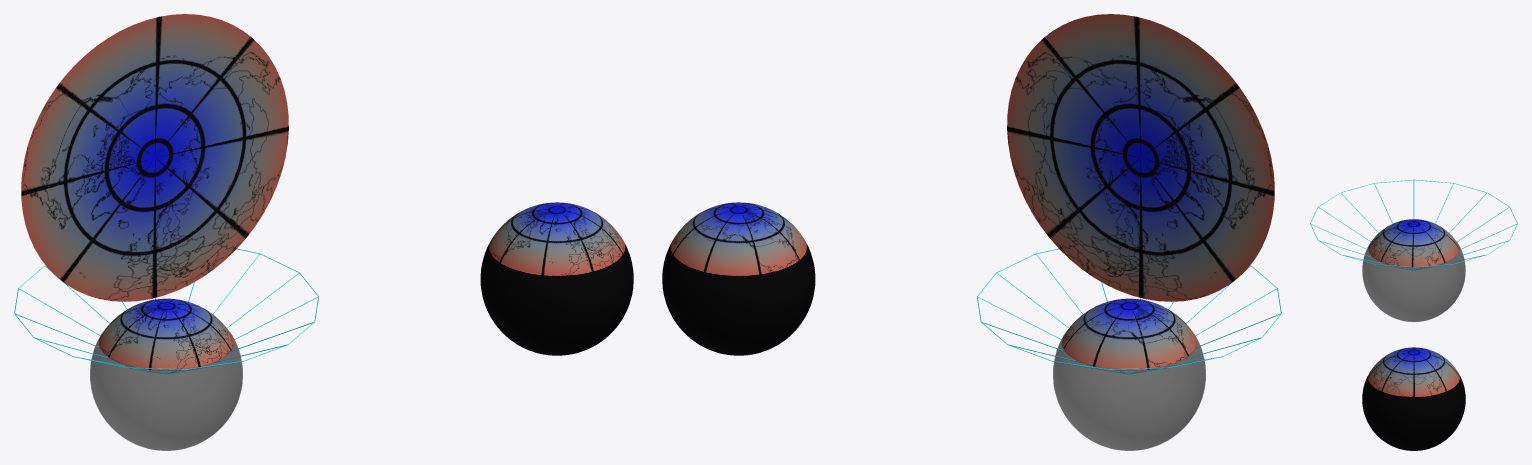
File: geonomic projection.FBX
3 views of the same model, side by side, from view 1: azimuth 30°, elevation 25°; view 2: azimuth 150°, elevation 25°; view 3: azimuth 270°, elevation 25° (orthographic). The views are drawn at different scales.
Visible parts, largest first — view 1: Gnomonic_Projection, Gnomonic_Sphere, Gnomonic_Sphere001, Gnomonic_Sphere_Half, Gbomonic Projection Grid; view 2: Gnomonic_Projection, Gnomonic_Sphere, Gnomonic_Sphere001, Gnomonic_Sphere_Half, Gbomonic Projection Grid; view 3: Gnomonic_Sphere, Gnomonic_Sphere001, Gnomonic_Sphere_Half, Gbomonic Projection Grid.
Boxes of the visible parts, box(x1,y1,x2,y2) form: Gnomonic_Projection: box(21, 14, 288, 301); Gnomonic_Sphere: box(480, 202, 633, 355); Gnomonic_Sphere001: box(90, 331, 242, 450); Gnomonic_Sphere_Half: box(99, 298, 233, 370); Gbomonic Projection Grid: box(14, 248, 318, 374); Gnomonic_Projection: box(1007, 14, 1274, 301); Gnomonic_Sphere: box(662, 202, 815, 355); Gnomonic_Sphere001: box(1053, 331, 1205, 450); Gnomonic_Sphere_Half: box(1062, 298, 1196, 370); Gbomonic Projection Grid: box(977, 248, 1281, 374); Gnomonic_Sphere: box(1362, 347, 1465, 450); Gnomonic_Sphere001: box(1362, 242, 1465, 321); Gnomonic_Sphere_Half: box(1368, 219, 1459, 268); Gbomonic Projection Grid: box(1310, 179, 1517, 270).
Size of the model in its own units: 181 by 123 by 80.21.
3 materials, 1 textured.
